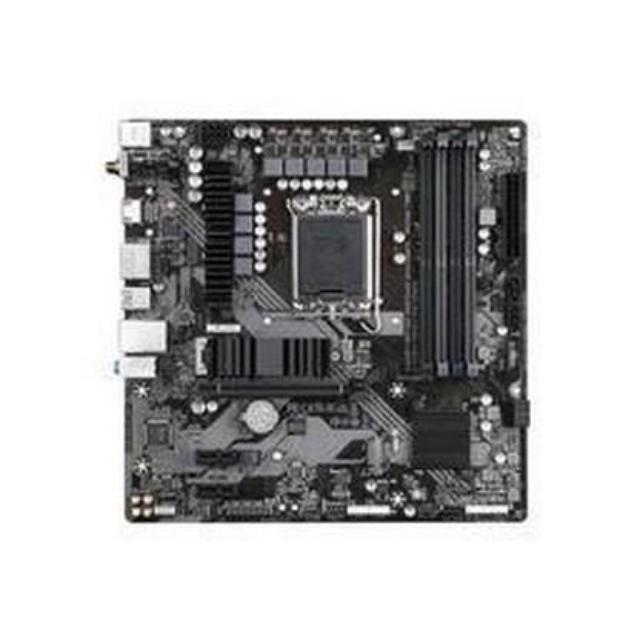Mainboard: (97, 102, 534, 530)
